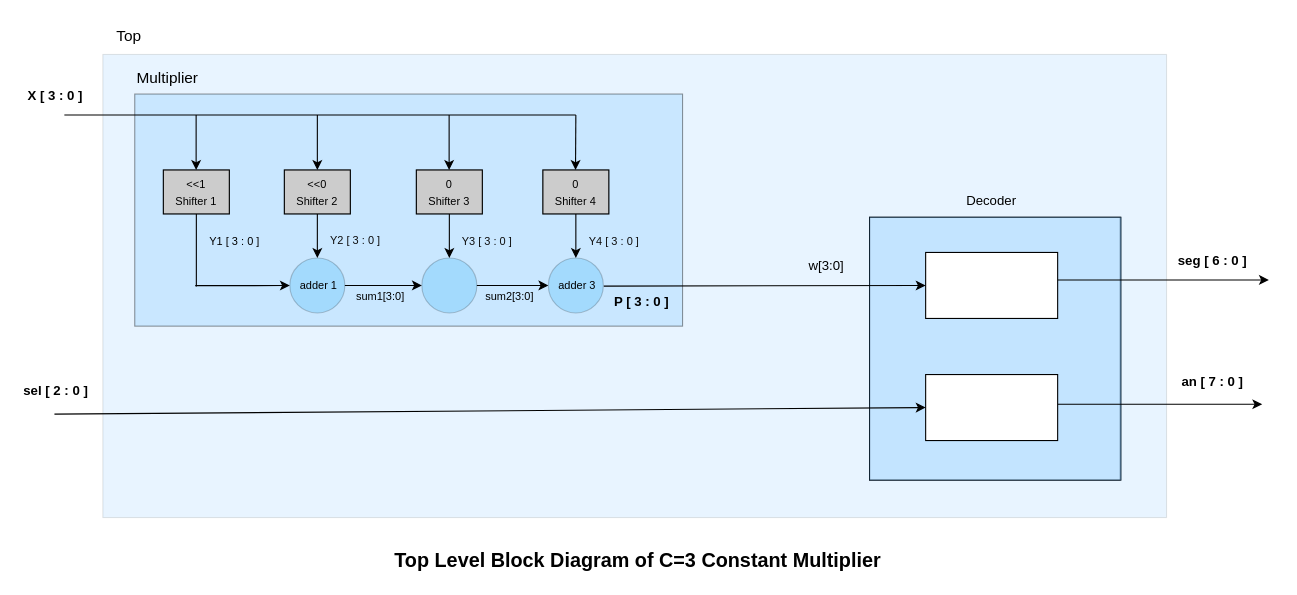
Some shapes in this 1297 by 595 pixel diagram are drawn without their labels. Here are the shapes that lost their labels. From the top down, the box of each, then its label:
(421, 257, 477, 313): adder 2
(925, 251, 1058, 318): Decoder 1
(925, 373, 1058, 441): Decoder 2
